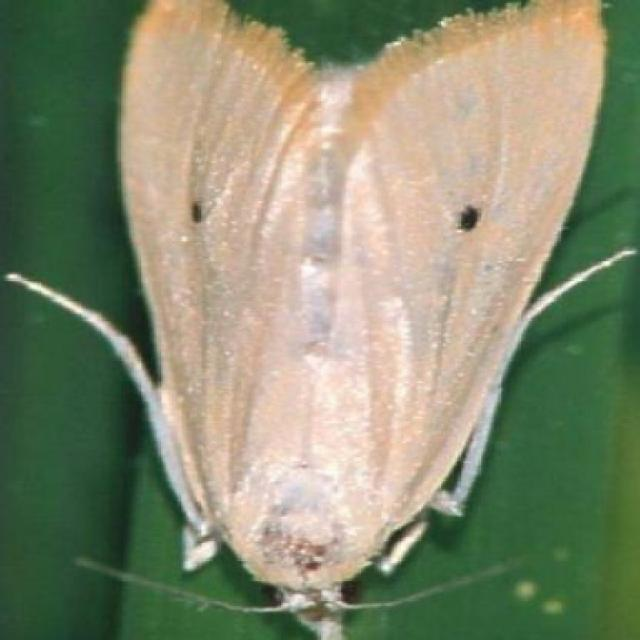stem-borer: (88, 0, 614, 640)
